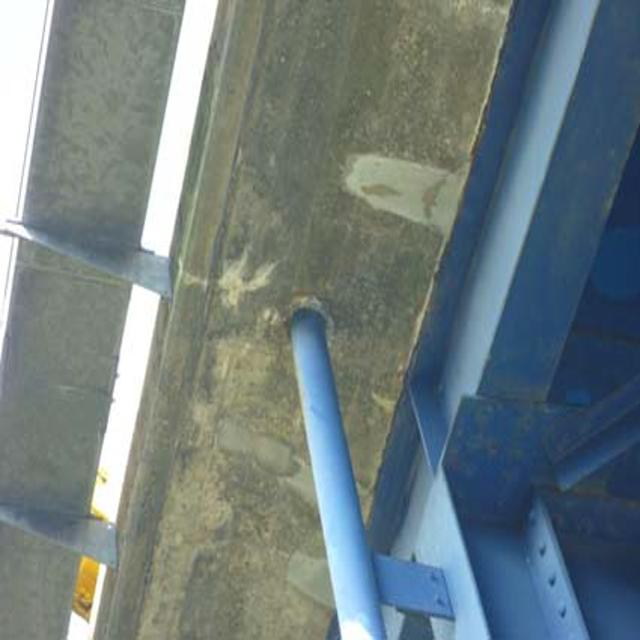freelime: (174, 234, 283, 309)
